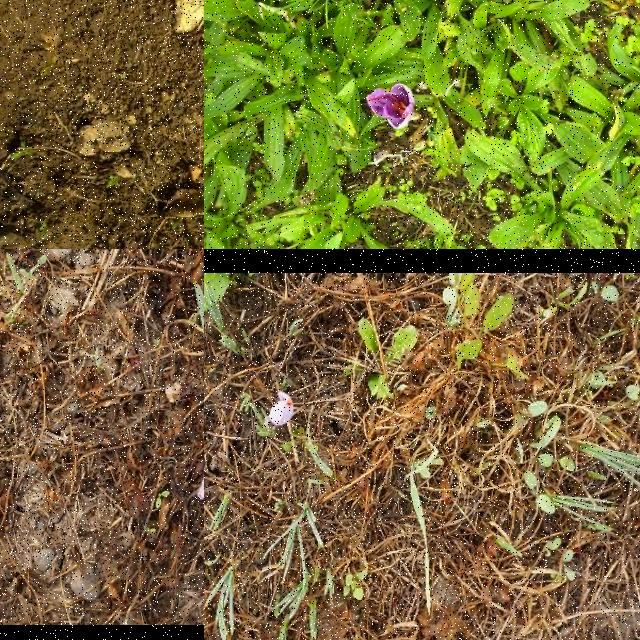flower: (367, 83, 415, 129), (269, 392, 295, 426)
